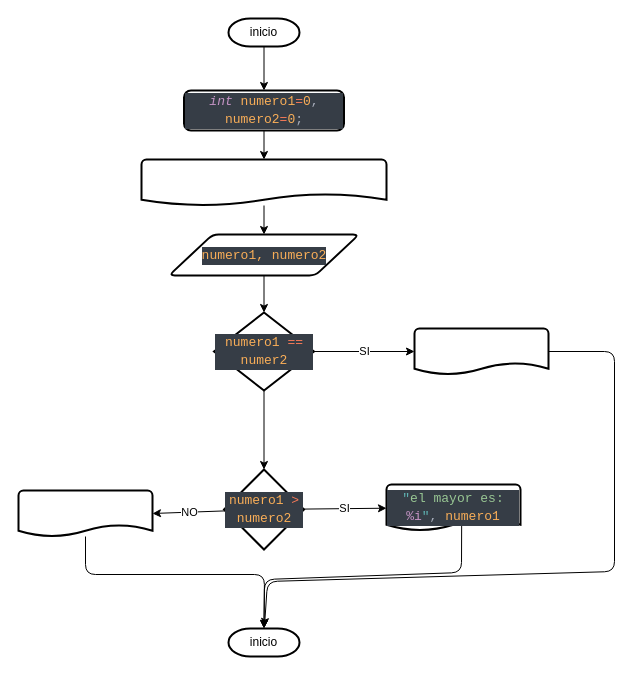
The diagram is 640 pixels wide and 674 high, and some of its shapes have lost their labels. Here are the shapes that lost their labels. From the top down, the centre of each, then its label:
point (263, 182): printf ( " Ingresa 1er num: " ) ;
point (481, 351): " Son iguales \n "
point (85, 513): " el mayor es: %i " , numero2
